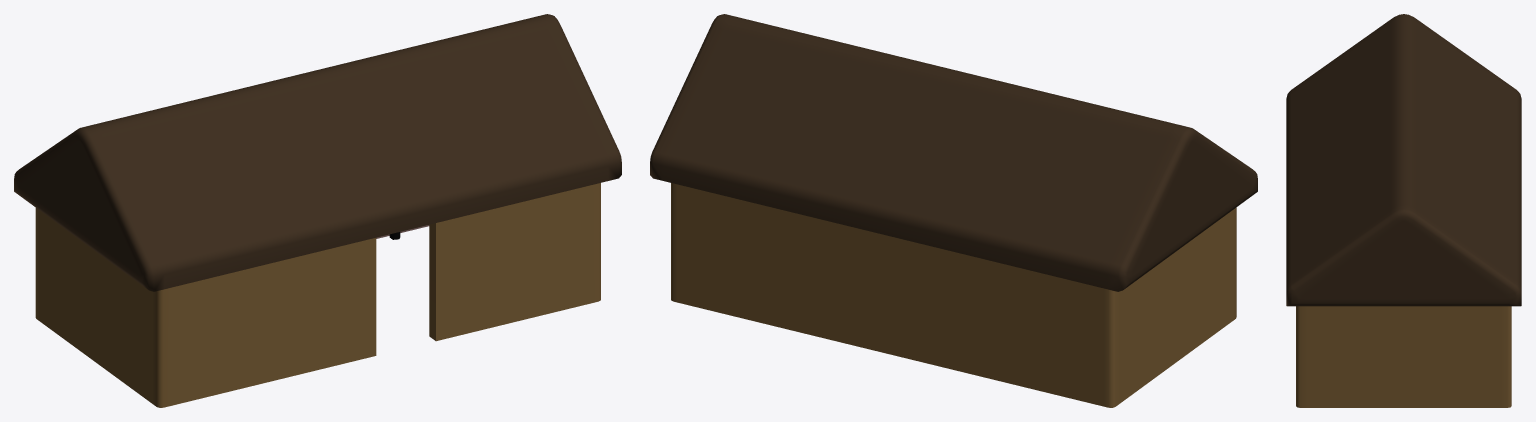
Rendered from Choza_chica.fbx.
3 views of the same model, side by side, from view 1: azimuth 30°, elevation 25°; view 2: azimuth 150°, elevation 25°; view 3: azimuth 270°, elevation 25° (orthographic). The views are drawn at different scales.
Parts seen in each view (by area): view 1: Choza_chica; view 2: Choza_chica; view 3: Choza_chica.
Part boxes in pixels (x1,y1,x2,y2): Choza_chica: (14, 14, 621, 407); Choza_chica: (650, 14, 1257, 407); Choza_chica: (1286, 14, 1521, 407).
Bounding box in the file's own units: 21.88 × 10.43 × 10.89.
